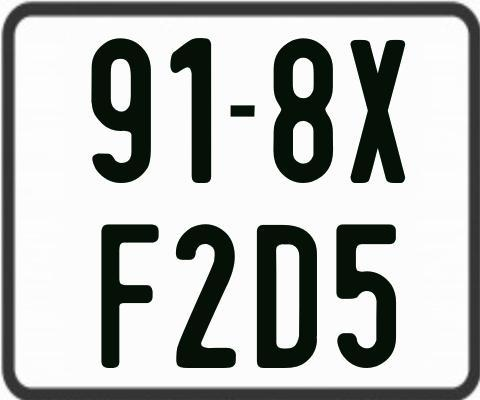1: (169, 38, 210, 186)
2: (174, 224, 234, 369)
5: (335, 221, 397, 365)
8: (272, 37, 333, 187)
9: (91, 36, 154, 181)
D: (255, 224, 320, 372)
F: (101, 223, 164, 373)
X: (347, 38, 403, 186)
